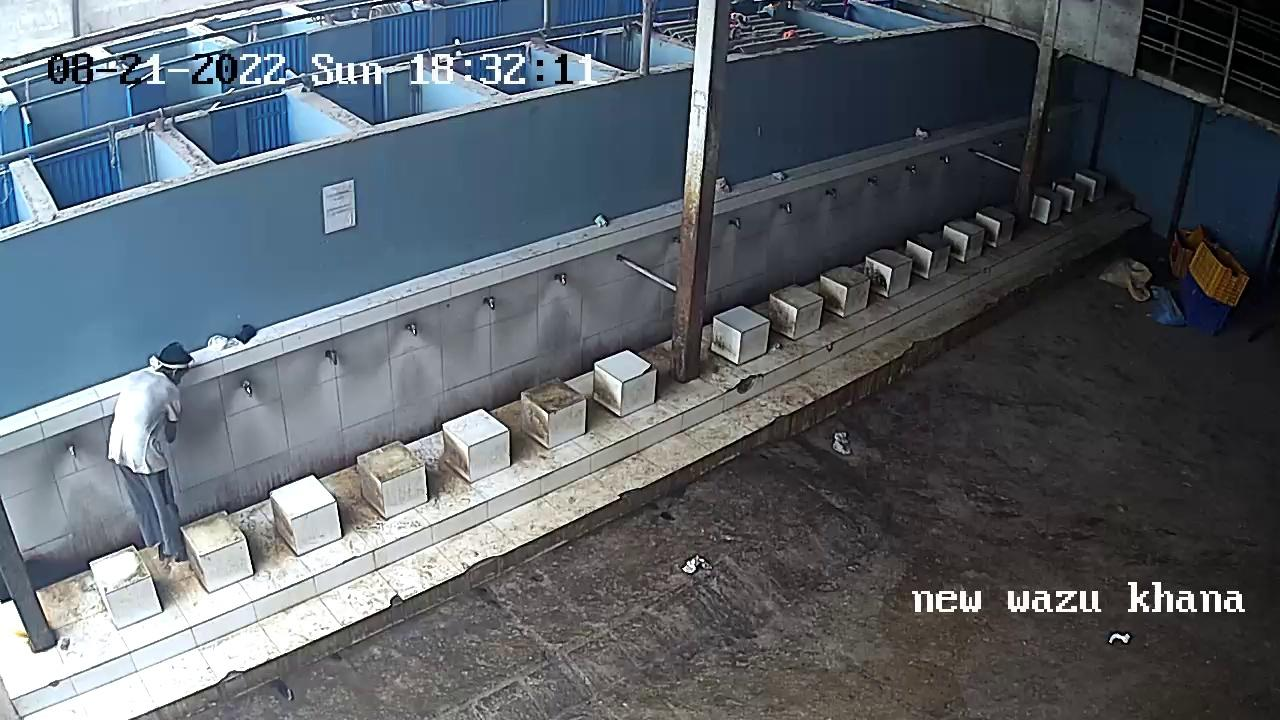person: (106, 348, 209, 559)
